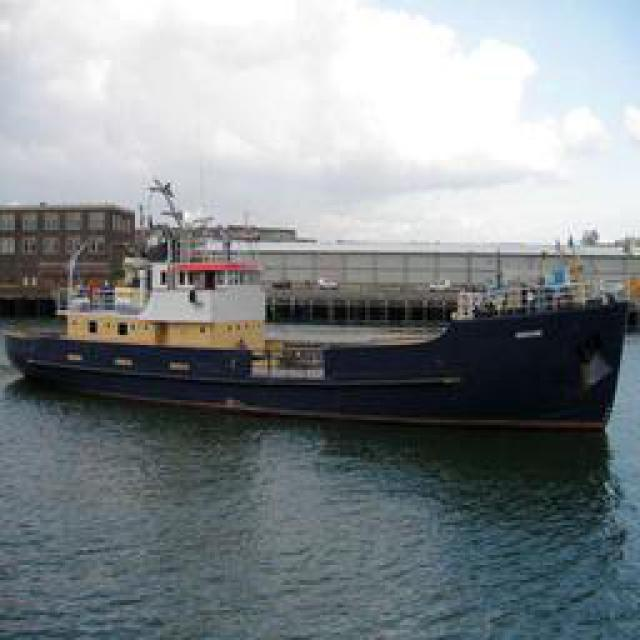Ship: (9, 224, 632, 429)
